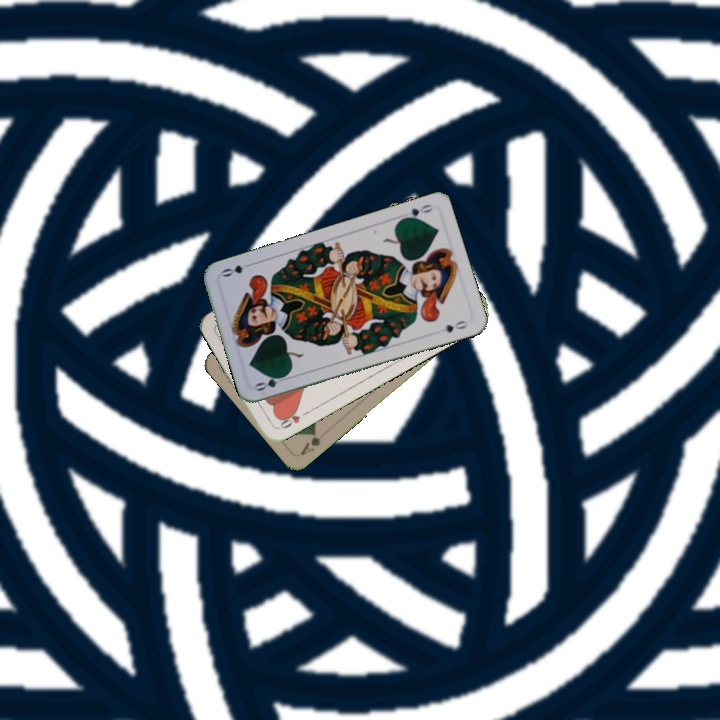GA: (296, 428, 323, 458)
GO: (251, 370, 292, 394), (397, 200, 436, 223)
HO: (273, 405, 311, 432)
